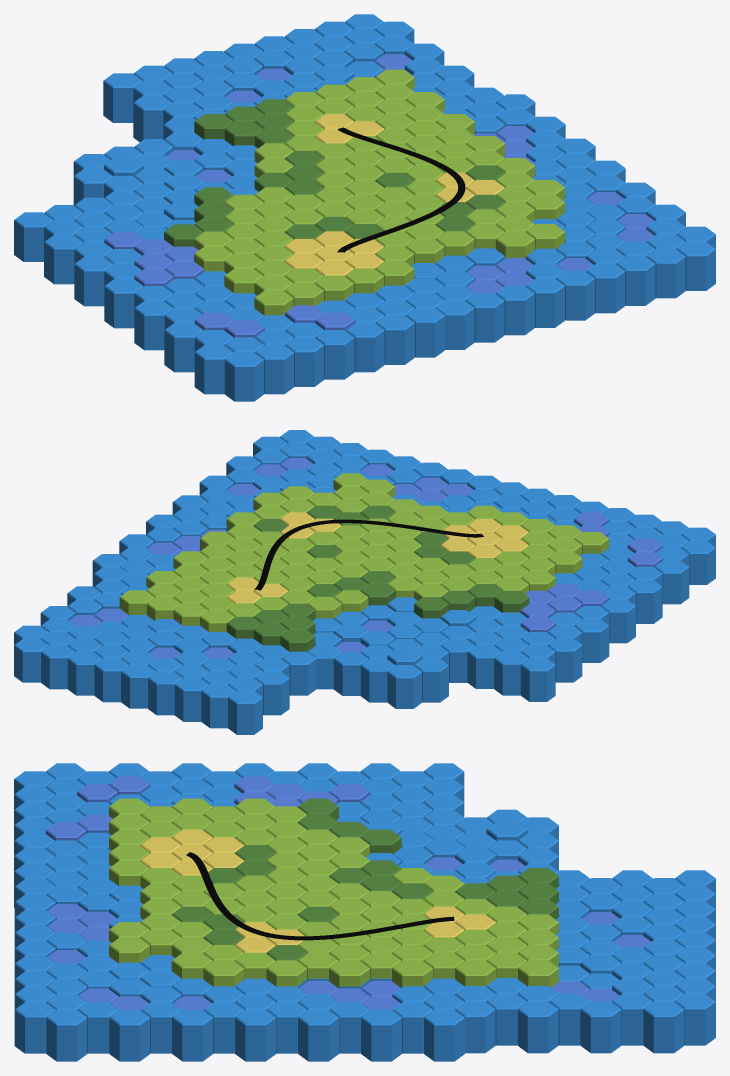
File: Map_bus.fbx
The picture shows the model from 3 angles, top to bottom: view 1: azimuth 30°, elevation 25°; view 2: azimuth 150°, elevation 25°; view 3: azimuth 270°, elevation 25°; orthographic projection. The views are drawn at different scales.
Visible parts, largest first — view 1: Map_Bus, NurbsPath; view 2: Map_Bus, NurbsPath; view 3: Map_Bus, NurbsPath.
Boxes of the visible parts, x1,y1,x2,y2 form: Map_Bus: (14,14,715,401); NurbsPath: (337,127,465,252); Map_Bus: (14,430,715,734); NurbsPath: (254,519,483,590); Map_Bus: (14,763,715,1061); NurbsPath: (186,852,454,940).
Size of the model in its own units: 300 by 28.39 by 341.
